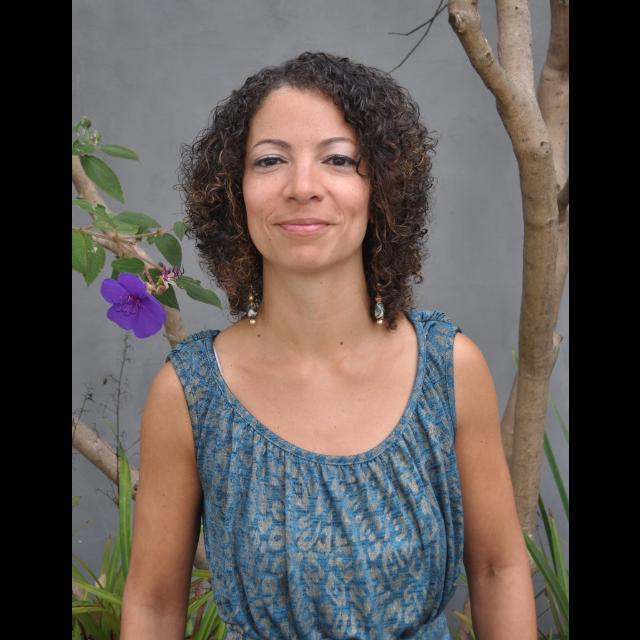Flower: (94, 268, 164, 340)
